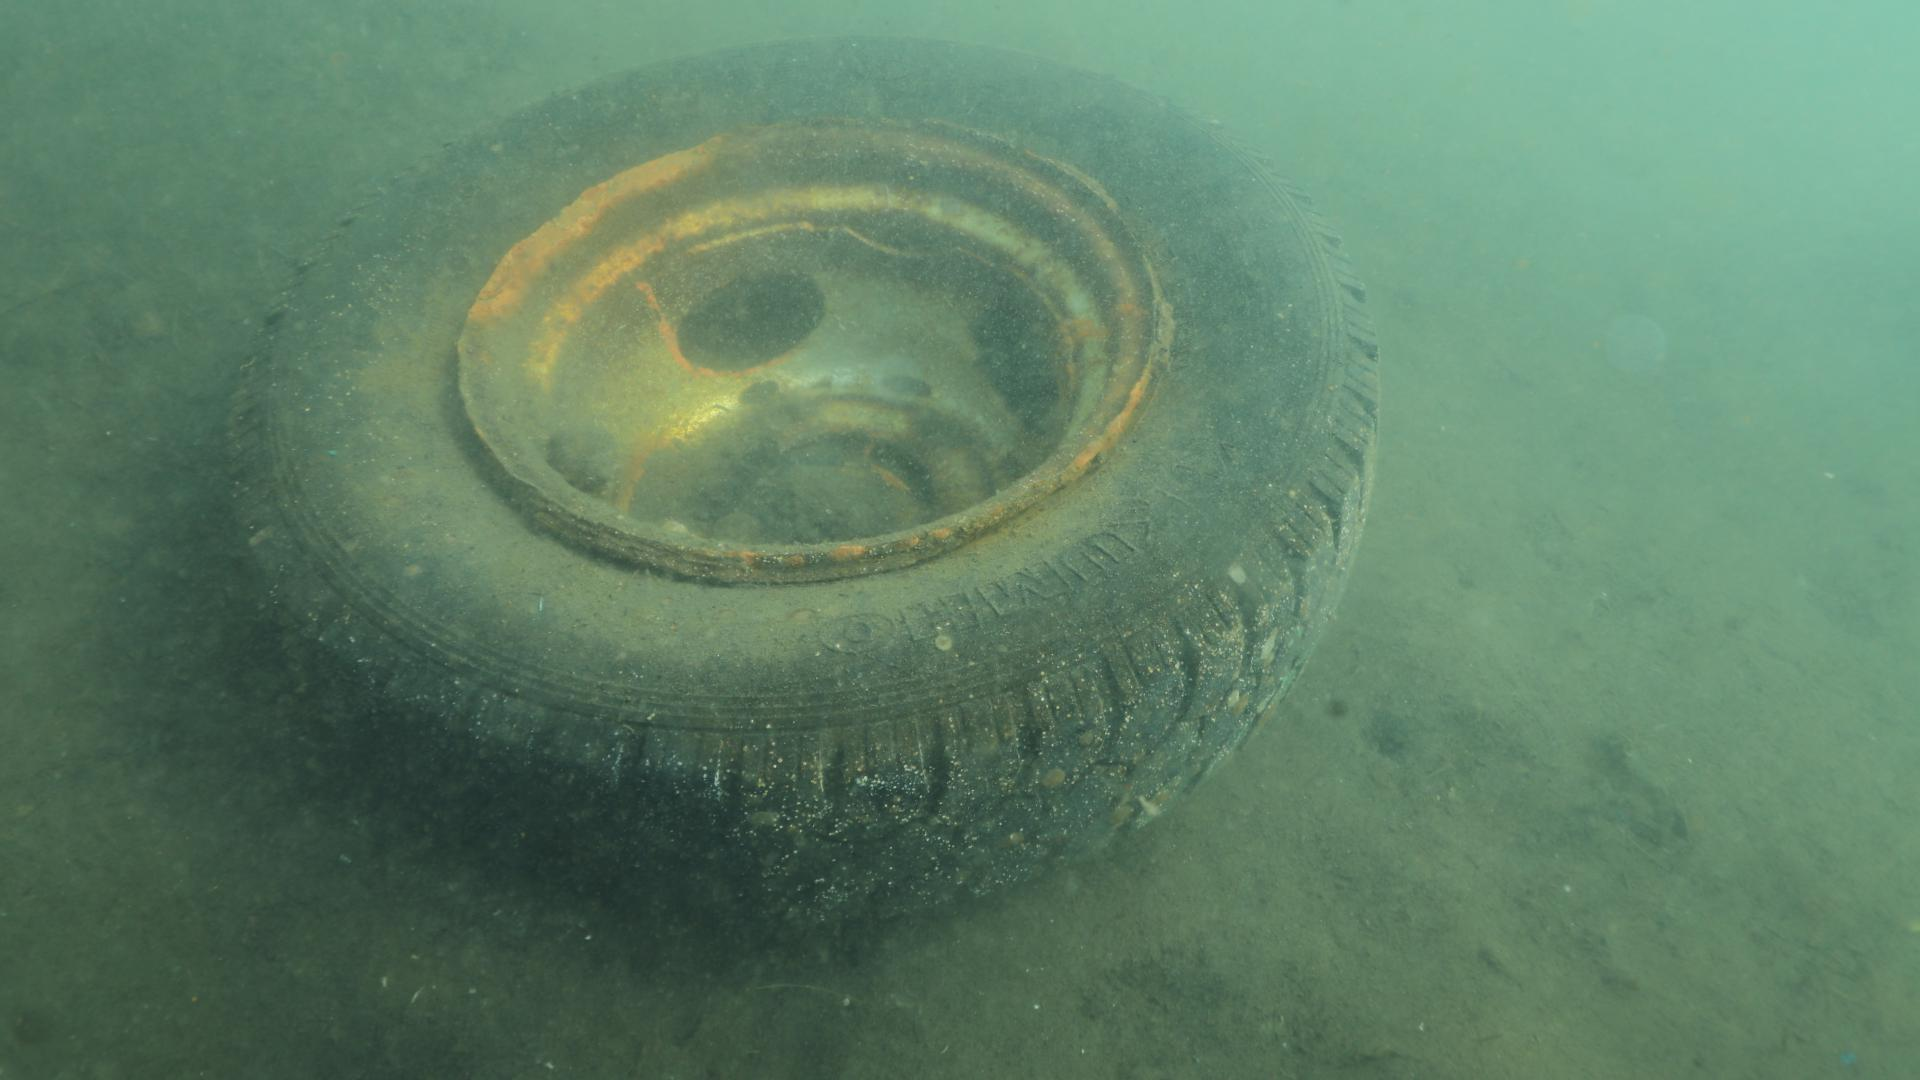tire: (210, 32, 1377, 923)
